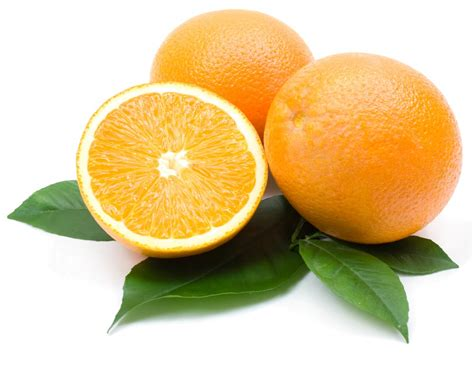orange: (261, 49, 461, 244), (145, 8, 313, 104)
